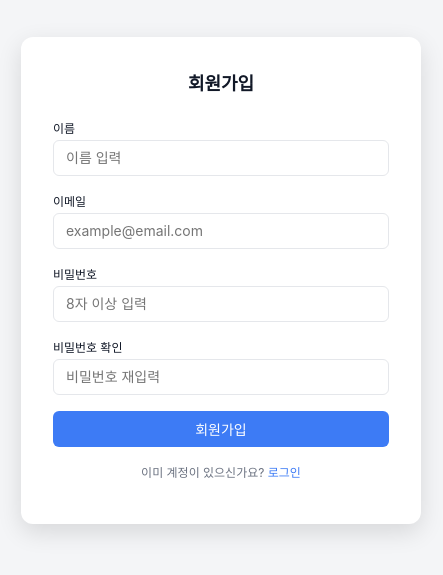
Scenario: 비밀번호 불일치 시 유효성 오류
The image size is (443, 575).
In the field labelled "이름": (221, 158) top-left (53, 140), bottom-right (389, 176), type "Test"
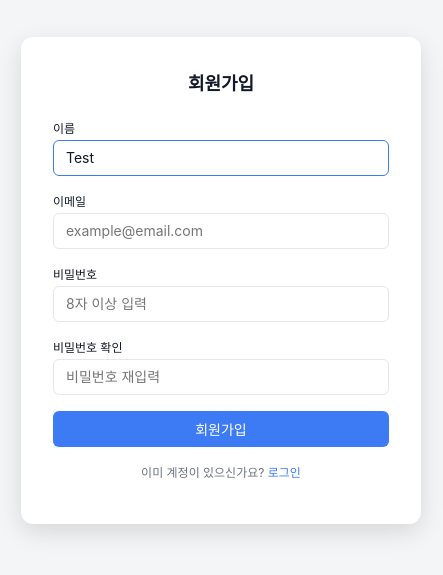
In the field labelled "이메일": (221, 230) top-left (53, 212), bottom-right (389, 248), type "a@b.com"
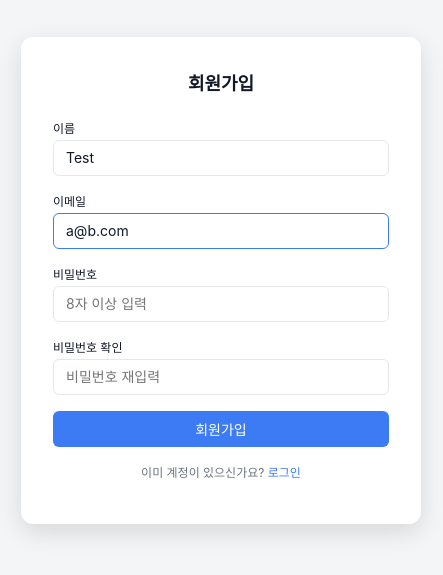
In the password field labelled "비밀번호": (221, 304) top-left (53, 286), bottom-right (389, 322), type "password1"
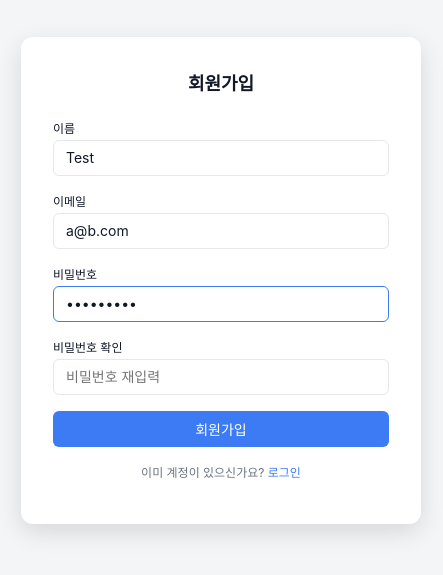
In the password field labelled "비밀번호 확인": (221, 376) top-left (53, 358), bottom-right (389, 394), type "password2"
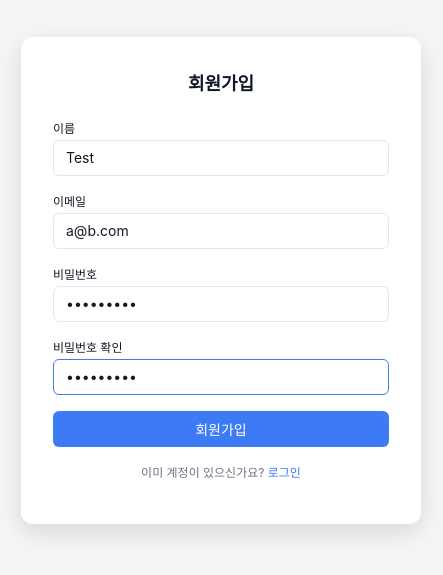
Click the button "회원가입": (221, 428) top-left (53, 410), bottom-right (389, 446)
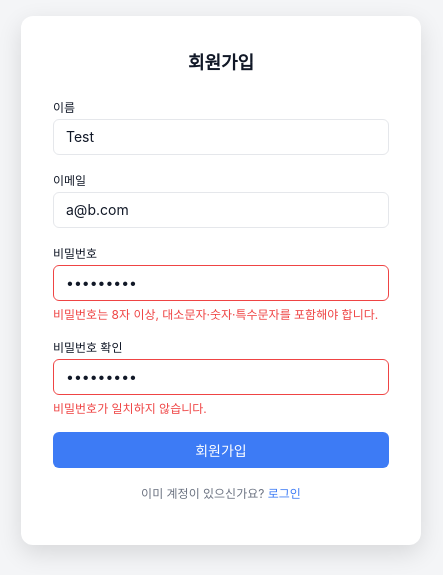
Now the text "비밀번호가 일치하지 않습니다." is shown, box top-left (53, 400), bottom-right (207, 416)
